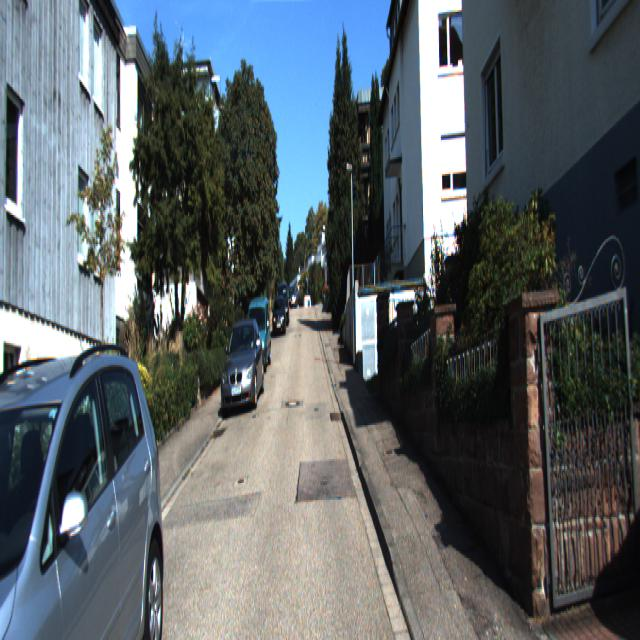Car: (0, 333, 173, 638), (219, 316, 266, 414), (242, 296, 272, 375), (276, 282, 290, 327), (272, 294, 286, 334)
